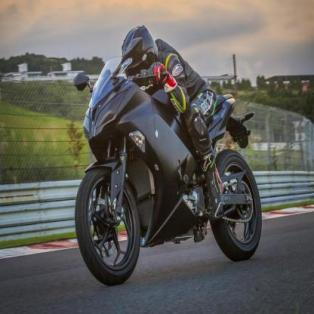Motocicleta: (69, 68, 265, 284)
